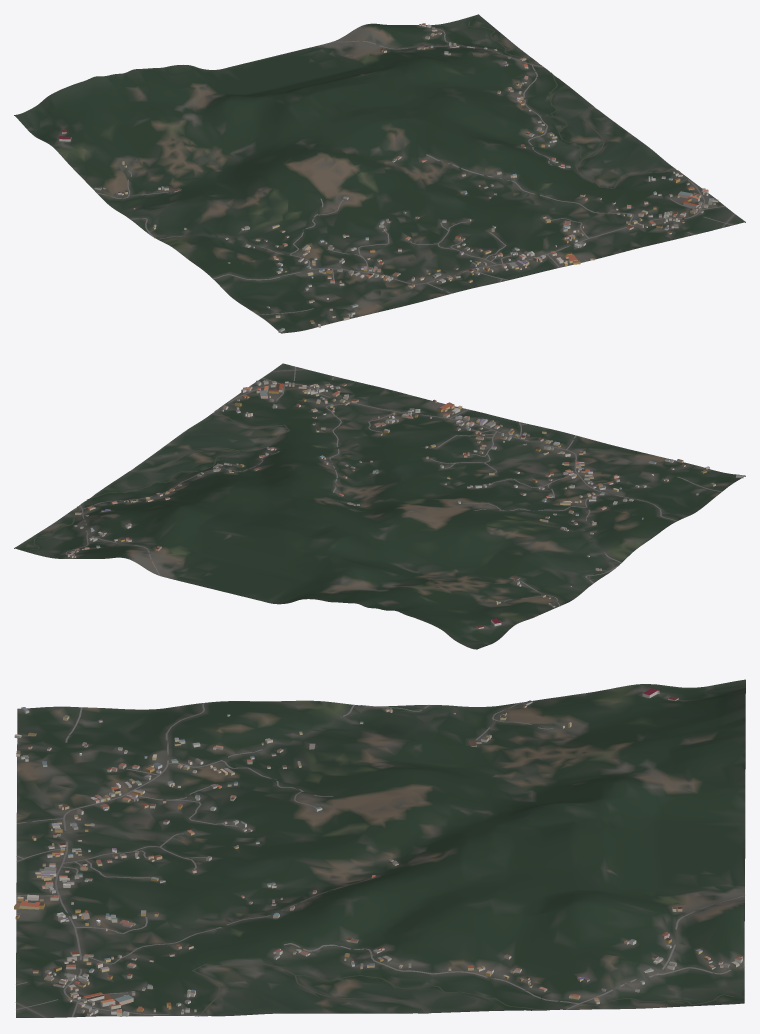
The picture shows the model from 3 angles, top to bottom: view 1: azimuth 30°, elevation 25°; view 2: azimuth 150°, elevation 25°; view 3: azimuth 270°, elevation 25°; orthographic projection. The views are drawn at different scales.
Visible parts, largest first — view 1: ground, buildings, roads, water; view 2: ground, buildings, roads, water; view 3: ground, buildings, roads, water.
Part boxes in pixels (bbox=[...]): ground: bbox=[14, 14, 745, 333]; buildings: bbox=[59, 23, 718, 332]; roads: bbox=[97, 25, 734, 315]; water: bbox=[468, 21, 677, 188]; ground: bbox=[14, 363, 745, 649]; buildings: bbox=[67, 380, 743, 628]; roads: bbox=[65, 366, 721, 605]; water: bbox=[30, 411, 289, 549]; ground: bbox=[16, 679, 745, 1017]; buildings: bbox=[14, 688, 742, 1016]; roads: bbox=[15, 702, 744, 1017]; water: bbox=[192, 964, 734, 1016].
Bounding box in the file's own units: 1405 × 128 × 1408.
